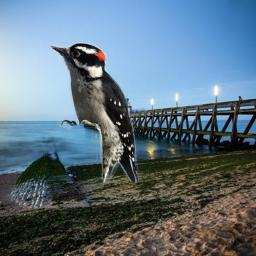Woodpecker: (49, 42, 140, 183)
